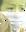with_mask: (1, 2, 26, 32)
